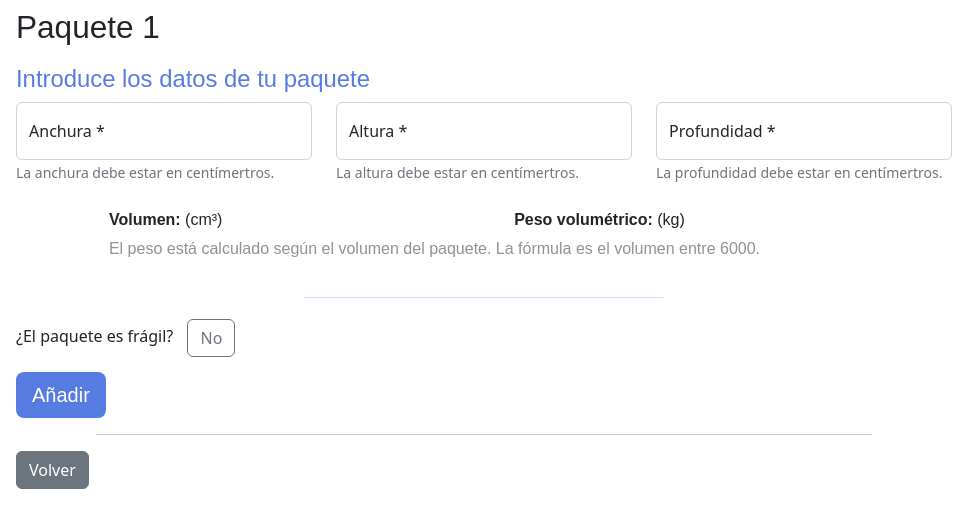
Test: SendPackage › Muestra los cambios de volumen y peso volumétrico › Muestra el texto "Volumen:", con su valor como los valores de anchura+altura+profundidad con dos decimales y su unidad (cm<sup>3</sup>). Para ello hay que cambi
Type "10" into the number field labelled "Anchura *" at (164, 130), box [16,102,312,160]
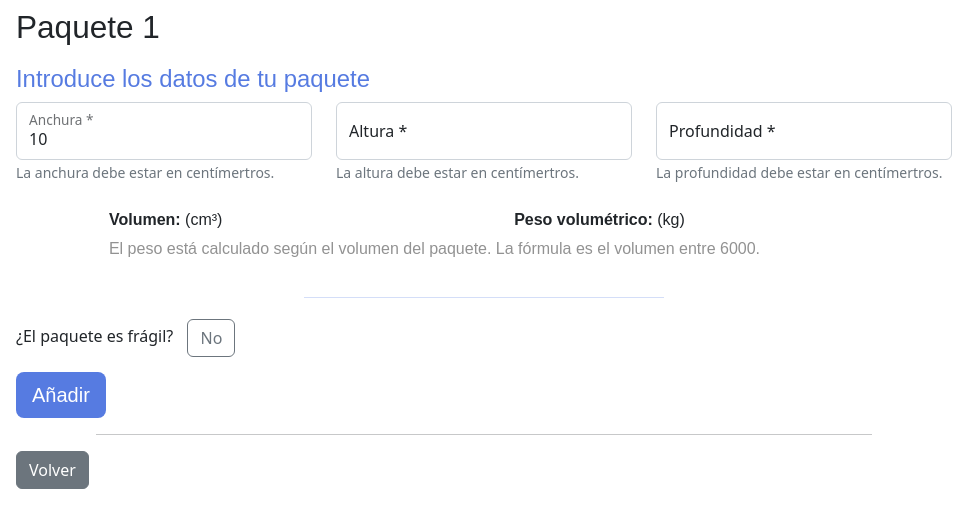
Type "10" into the number field labelled "Altura *" at (484, 130), box [336,102,632,160]
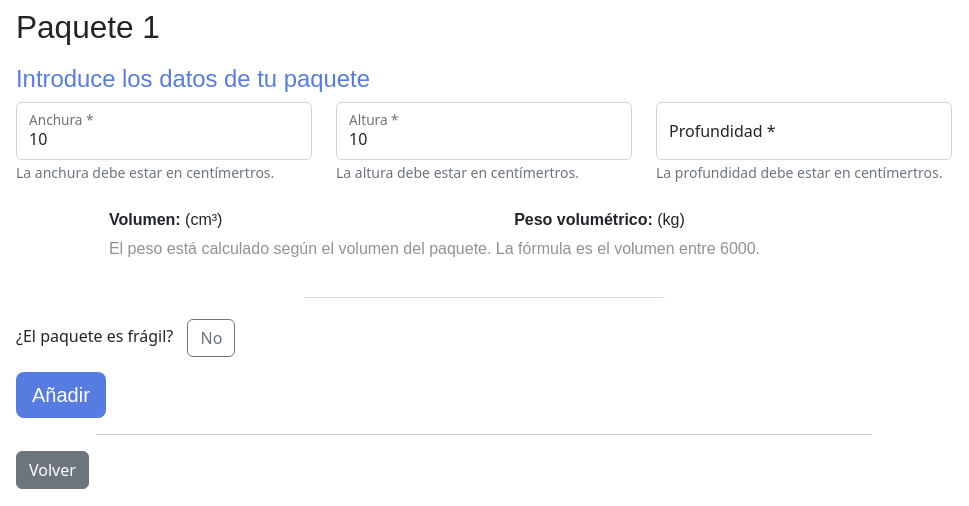
Type "10" into the number field labelled "Profundidad *" at (804, 130), box [656,102,952,160]
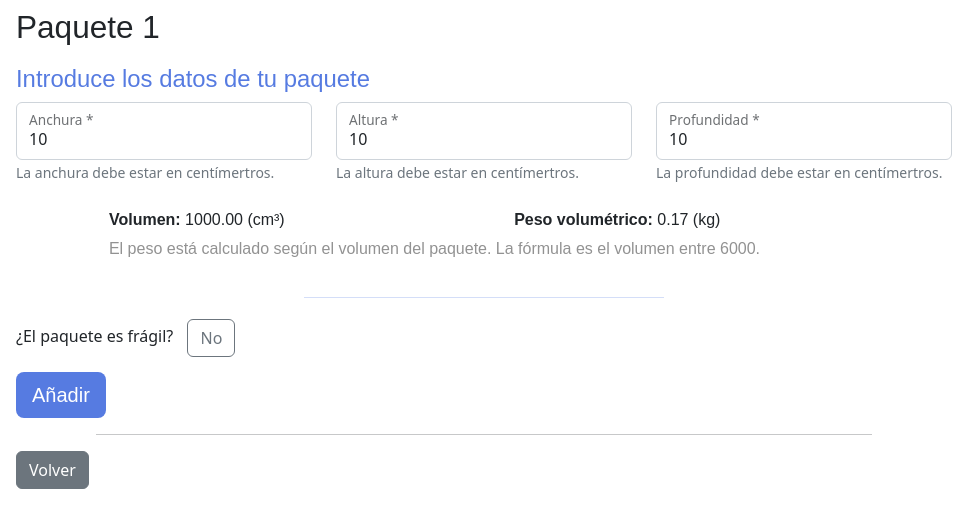
Check: the text "Volumen:" is shown, box [109,210,181,228]
Check: the heading "Volumen: 1000.00 (cm³)" is shown, box [109,210,285,228]
